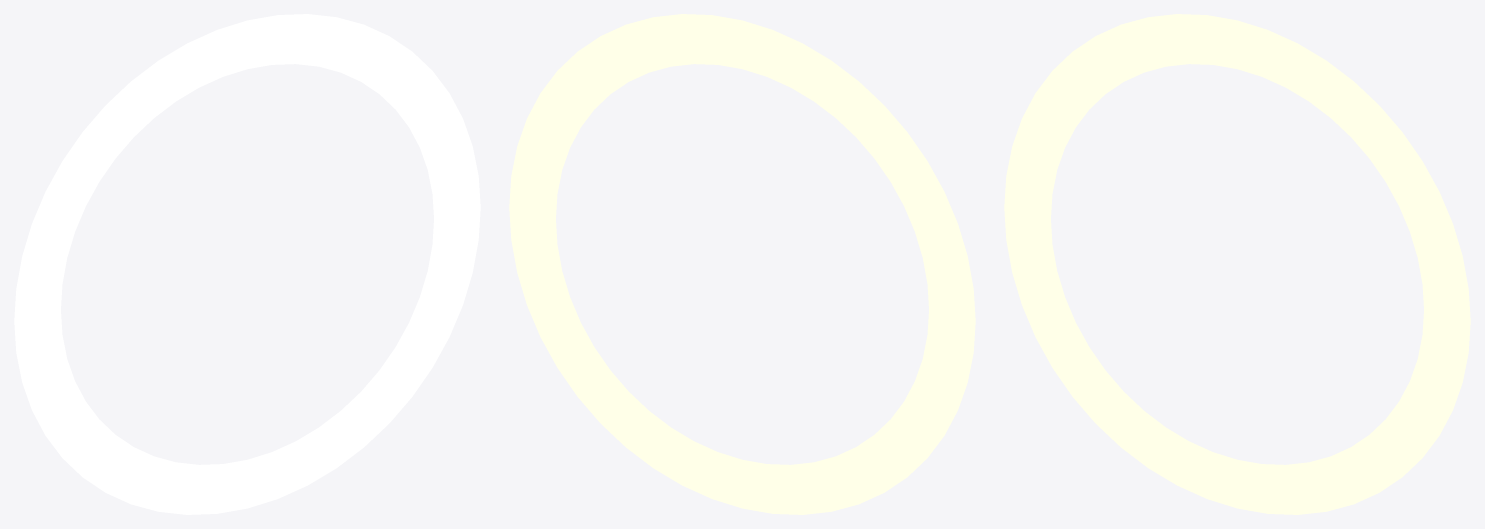
File: spirit_ripple.glb
3 renders of one model, left to right at view 1: azimuth 30°, elevation 25°; view 2: azimuth 150°, elevation 25°; view 3: azimuth 330°, elevation 25°, orthographic.
Visible parts, largest first — view 1: ripple_ring; view 2: ripple_ring; view 3: ripple_ring.
Boxes of the visible parts, x1,y1,x2,y2 form: ripple_ring: (14,14,480,514); ripple_ring: (509,14,975,514); ripple_ring: (1004,14,1470,514).
Bounding box in the file's own units: 0.1 × 0.1 × 0.
